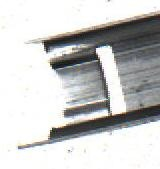press: (17, 18, 146, 152)
